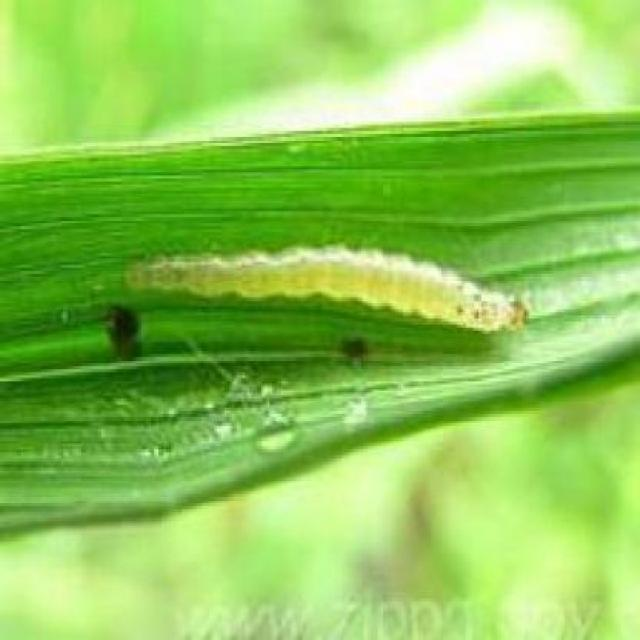leaf-folder: (102, 190, 542, 382)
